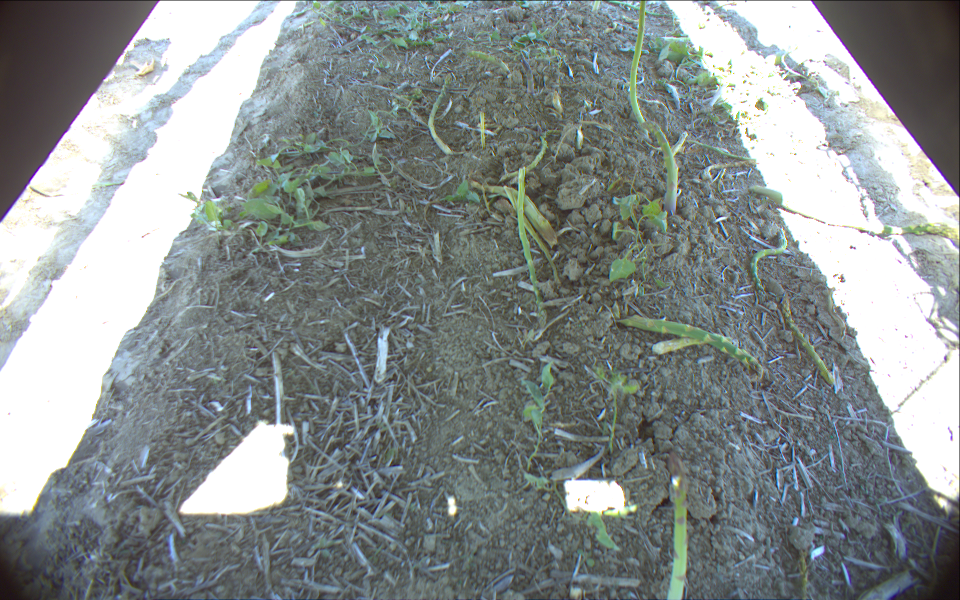aspa: (657, 448, 690, 600), (624, 1, 656, 138), (639, 121, 681, 221)
